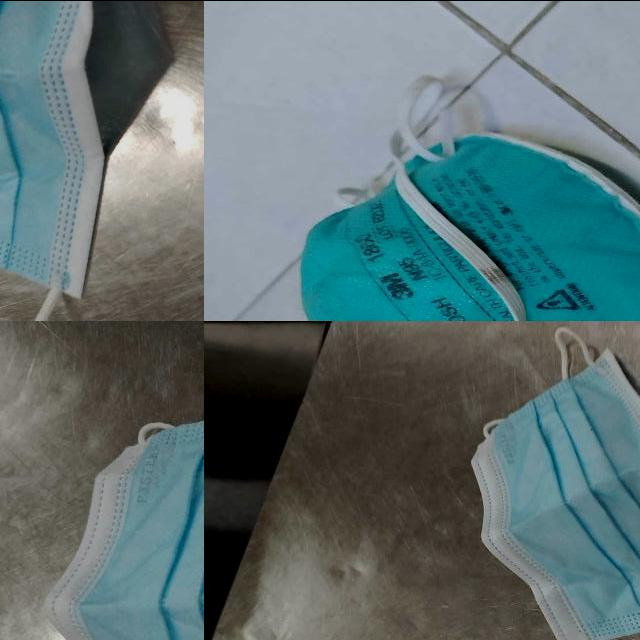General: (297, 77, 638, 323), (468, 334, 638, 640)
Infectious: (43, 419, 205, 640)
Sharps: (33, 285, 63, 322)
